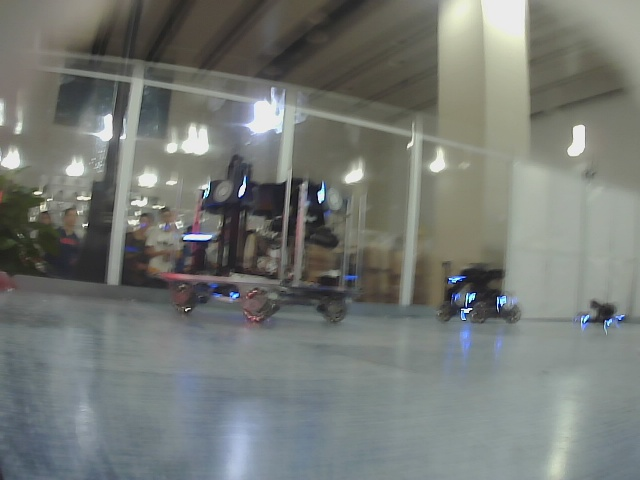lamp: (204, 181, 211, 199), (238, 180, 245, 197)
pair: (204, 182, 244, 199)
